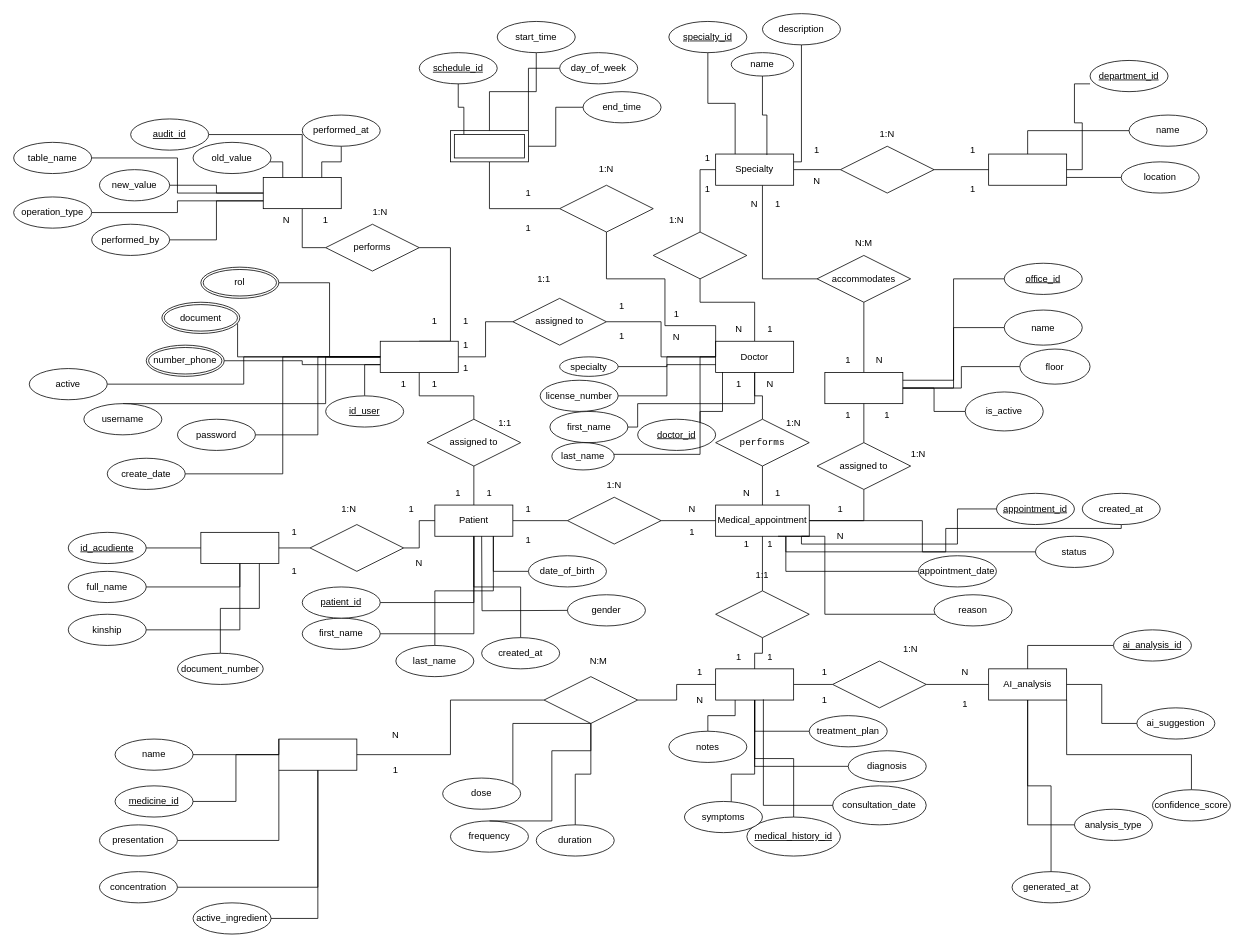
The diagram is 1244 pixels wide and 948 high, and some of its shapes have lost their labels. Each missing label, with the centre of its shape:
"Acudiente" goes at point (239, 548).
"Audit Log" goes at point (301, 193).
"belongs to" goes at point (887, 169).
"Departament" goes at point (1027, 169).
"employs" goes at point (699, 255).
"generates" goes at point (762, 614).
"has" goes at point (606, 208).
"Medical_history" goes at point (754, 684).
"Medical_office" goes at point (863, 388).
"Medicine" goes at point (317, 754).
"prescribes" goes at point (590, 699).
"protects" goes at point (356, 547).
"Schedule" goes at point (489, 146).
"schedules" goes at point (614, 520).
"Supports" goes at point (879, 684).
"User" goes at point (418, 356).
